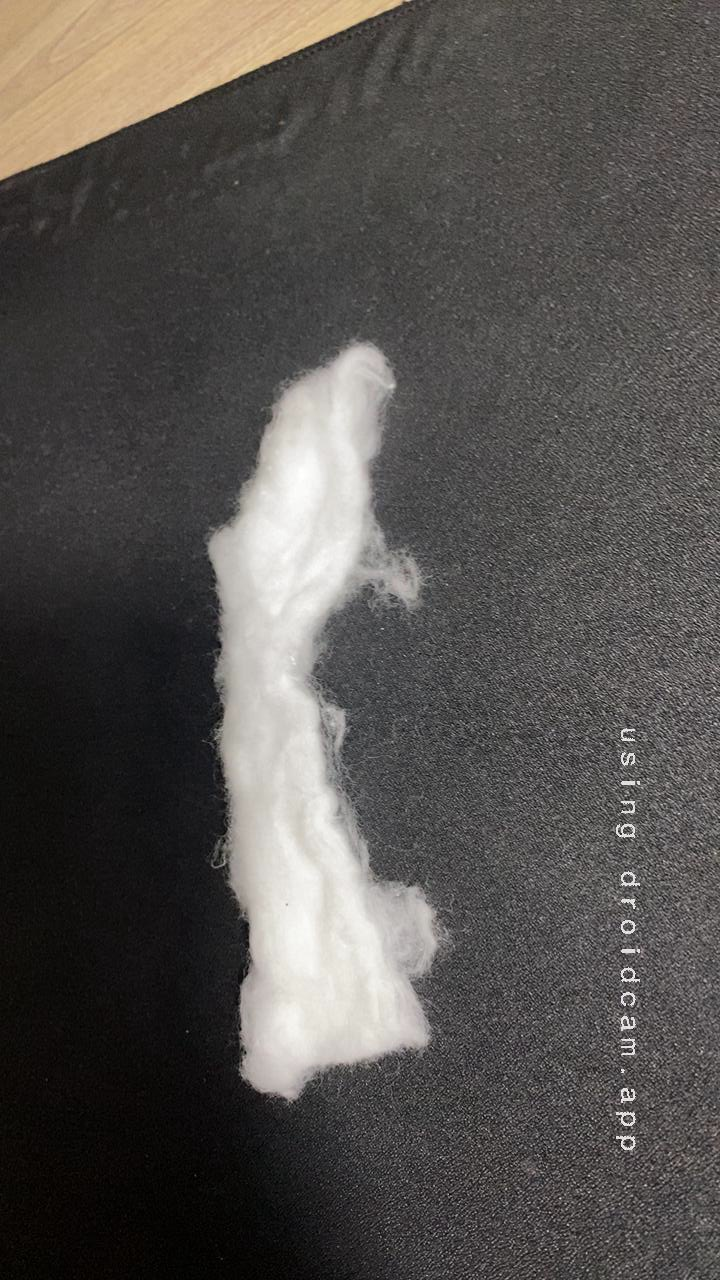cotton: (159, 330, 463, 1022)
